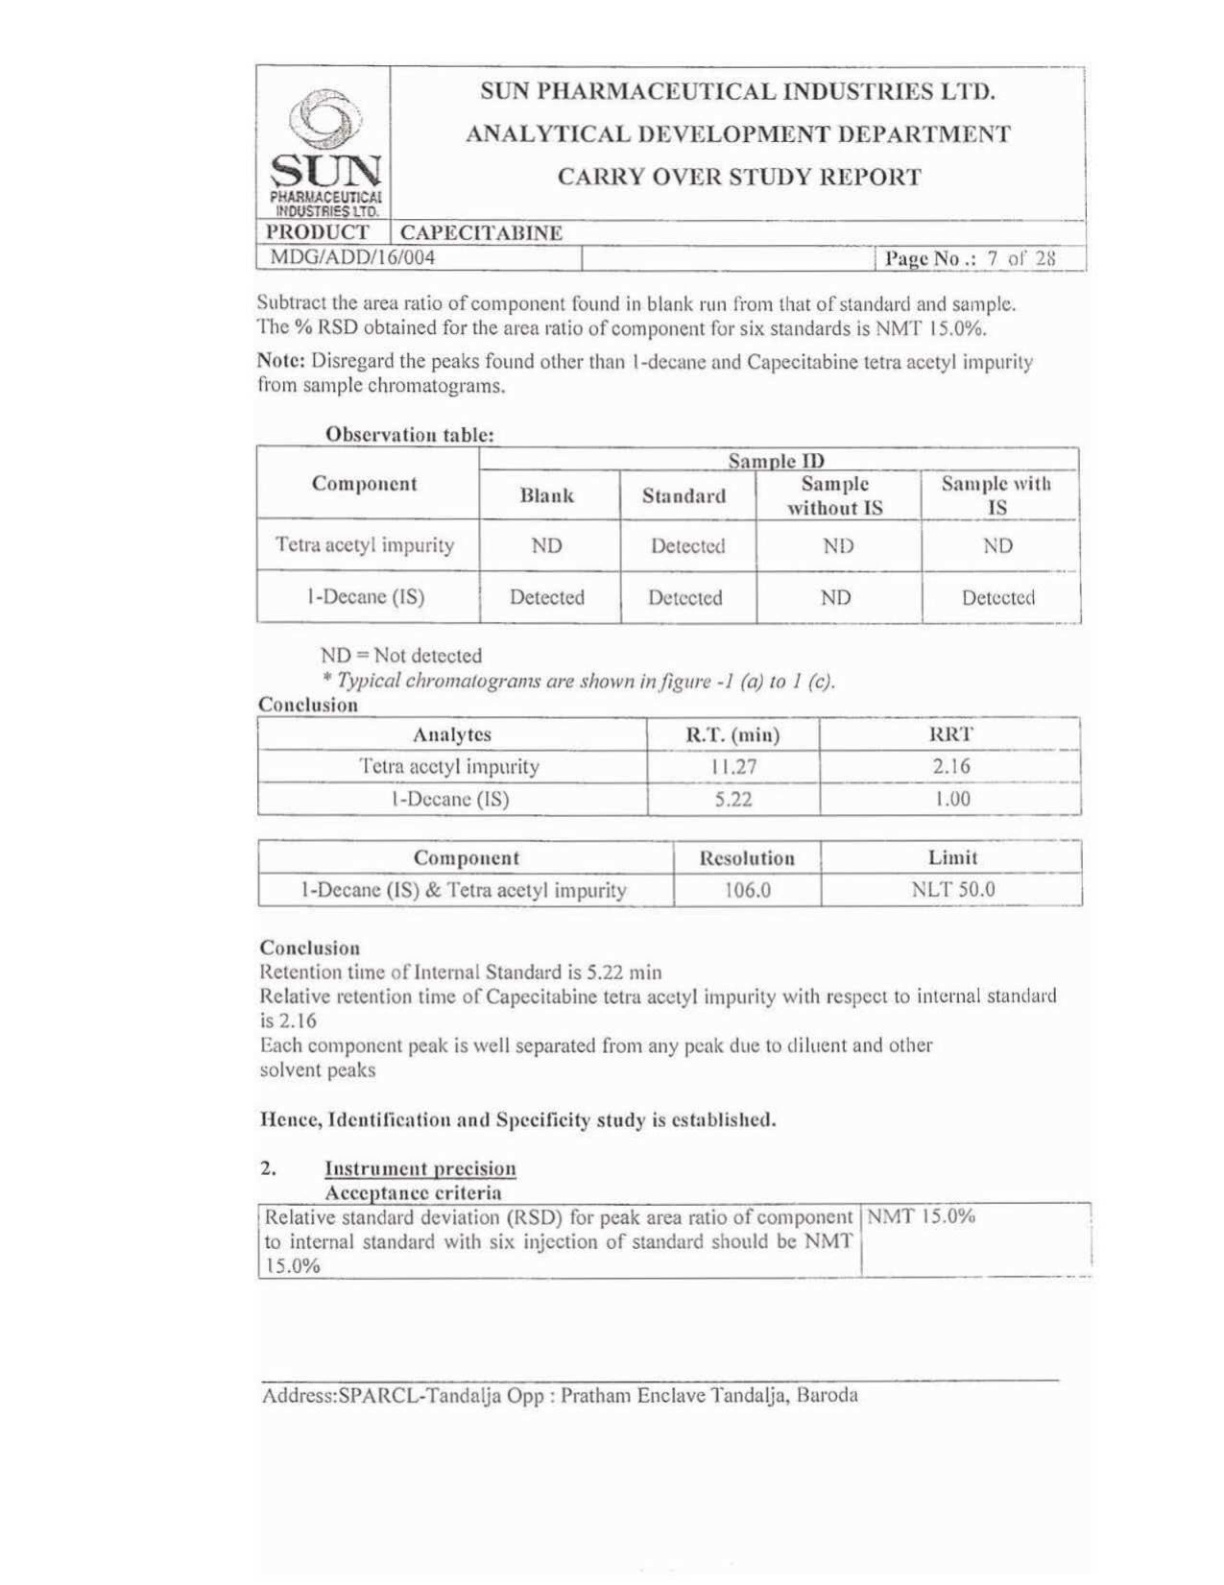full_lined: (256, 715, 1084, 816), (257, 1202, 1094, 1280), (256, 837, 1085, 908)
merged_cells: (255, 63, 1089, 273), (255, 443, 1083, 625)
